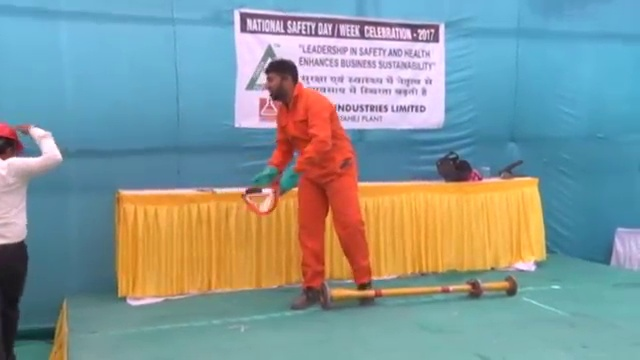helmet: (1, 119, 27, 151)
helmet_off: (263, 59, 299, 103)
helmet_on: (1, 118, 27, 164)
person: (256, 57, 370, 309), (1, 113, 63, 353)
